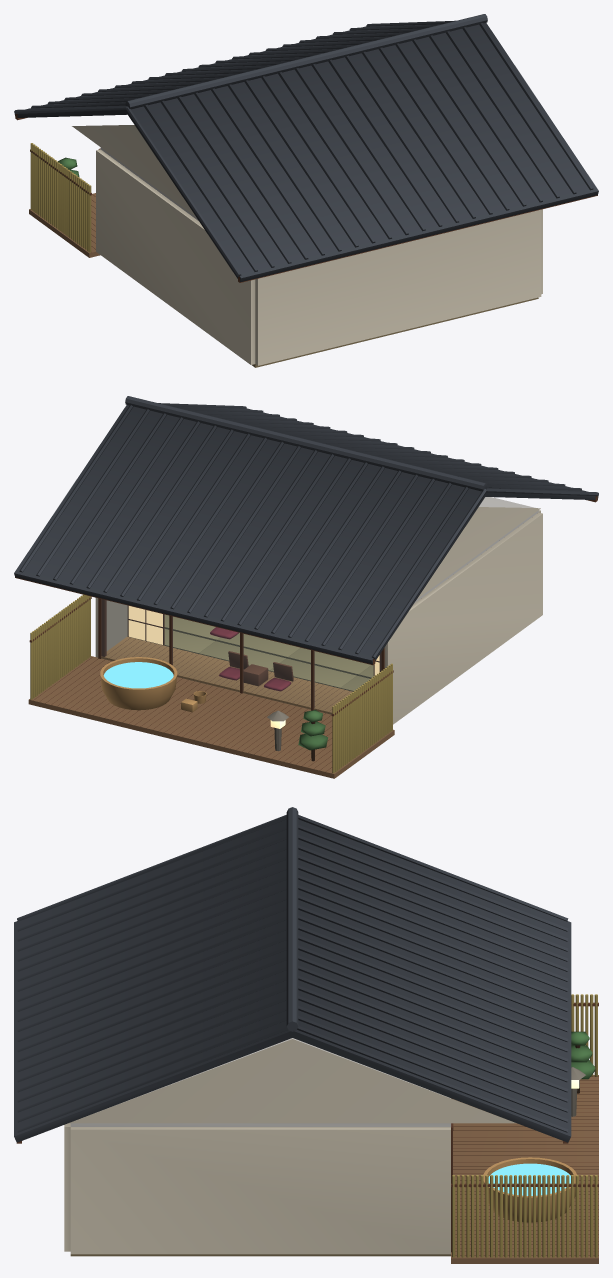
The model's file is hk-wayo.glb.
3 views of the same model, one above another, from view 1: azimuth 30°, elevation 25°; view 2: azimuth 150°, elevation 25°; view 3: azimuth 270°, elevation 25° (orthographic). The views are drawn at different scales.
Parts seen in each view (by area): view 1: Room_rooftile, Room_plaster, Room_bamboo, Room_hinokiDark, Room_deck, Room_subfloor; view 2: Room_rooftile, Room_plaster, Room_deck, Room_glass, Room_bamboo, Room_hinoki, Room_hinokiDark, Room_tatami, Room_water, Room_washi, Room_leaf, Room_zabuton (+2 smaller); view 3: Room_rooftile, Room_plaster, Room_deck, Room_bamboo, Room_hinokiDark, Room_ceiling, Room_hinoki, Room_water, Room_subfloor, Room_leaf.
Boxes of the visible parts, x1,y1,x2,y2 form: Room_rooftile: [14, 14, 598, 282]; Room_plaster: [72, 125, 542, 365]; Room_bamboo: [30, 143, 91, 252]; Room_hinokiDark: [15, 114, 597, 282]; Room_deck: [29, 193, 100, 257]; Room_subfloor: [252, 297, 538, 367]; Room_rooftile: [14, 396, 598, 664]; Room_plaster: [95, 507, 542, 724]; Room_deck: [28, 656, 394, 778]; Room_glass: [102, 600, 380, 711]; Room_bamboo: [30, 594, 392, 773]; Room_hinoki: [100, 636, 353, 714]; Room_hinokiDark: [15, 496, 597, 771]; Room_tatami: [164, 614, 373, 690]; Room_water: [103, 662, 173, 688]; Room_washi: [128, 606, 379, 728]; Room_leaf: [298, 710, 327, 750]; Room_zabuton: [210, 627, 291, 691]; Room_rooftile: [14, 807, 571, 1142]; Room_plaster: [64, 1039, 516, 1254]; Room_deck: [451, 1075, 598, 1263]; Room_bamboo: [452, 994, 597, 1257]; Room_hinokiDark: [16, 1002, 598, 1255]; Room_ceiling: [70, 1038, 450, 1126]; Room_hinoki: [483, 1157, 576, 1222]; Room_water: [488, 1163, 570, 1195]; Room_subfloor: [70, 1254, 450, 1256]; Room_leaf: [571, 1031, 595, 1079].
Bounding box in the file's own units: 9.65 × 5.39 × 11.07.
